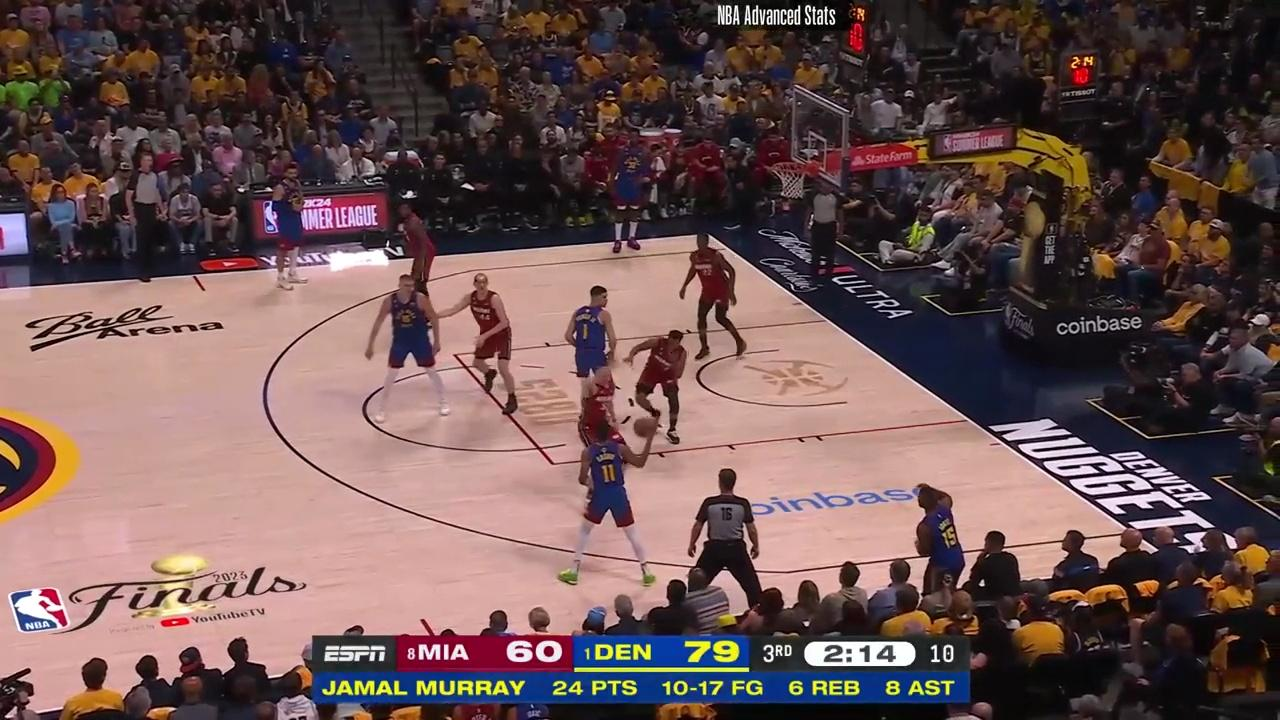Backboard: (786, 90, 846, 192)
Ball: (629, 416, 652, 440)
Basket: (772, 158, 817, 199)
Person: (569, 416, 662, 595), (378, 276, 462, 413), (453, 276, 527, 413), (681, 229, 746, 361), (623, 325, 689, 444), (266, 170, 321, 291), (561, 283, 615, 399), (614, 125, 658, 260), (395, 200, 441, 298), (577, 361, 621, 448)
Referee: (686, 467, 777, 618), (122, 151, 164, 285), (798, 173, 847, 287)
Shot Clock: (1054, 51, 1102, 114), (839, 7, 866, 86)
